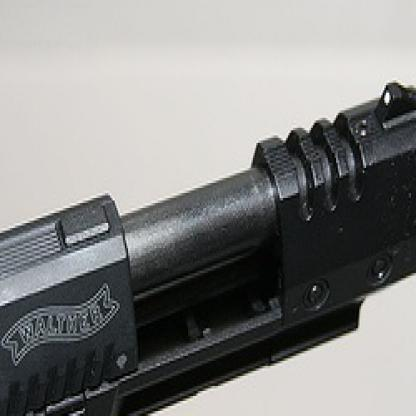gun: (0, 80, 415, 414)
